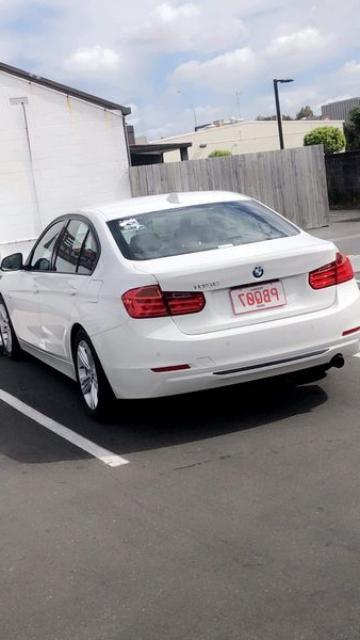Rego: (227, 281, 287, 316)
